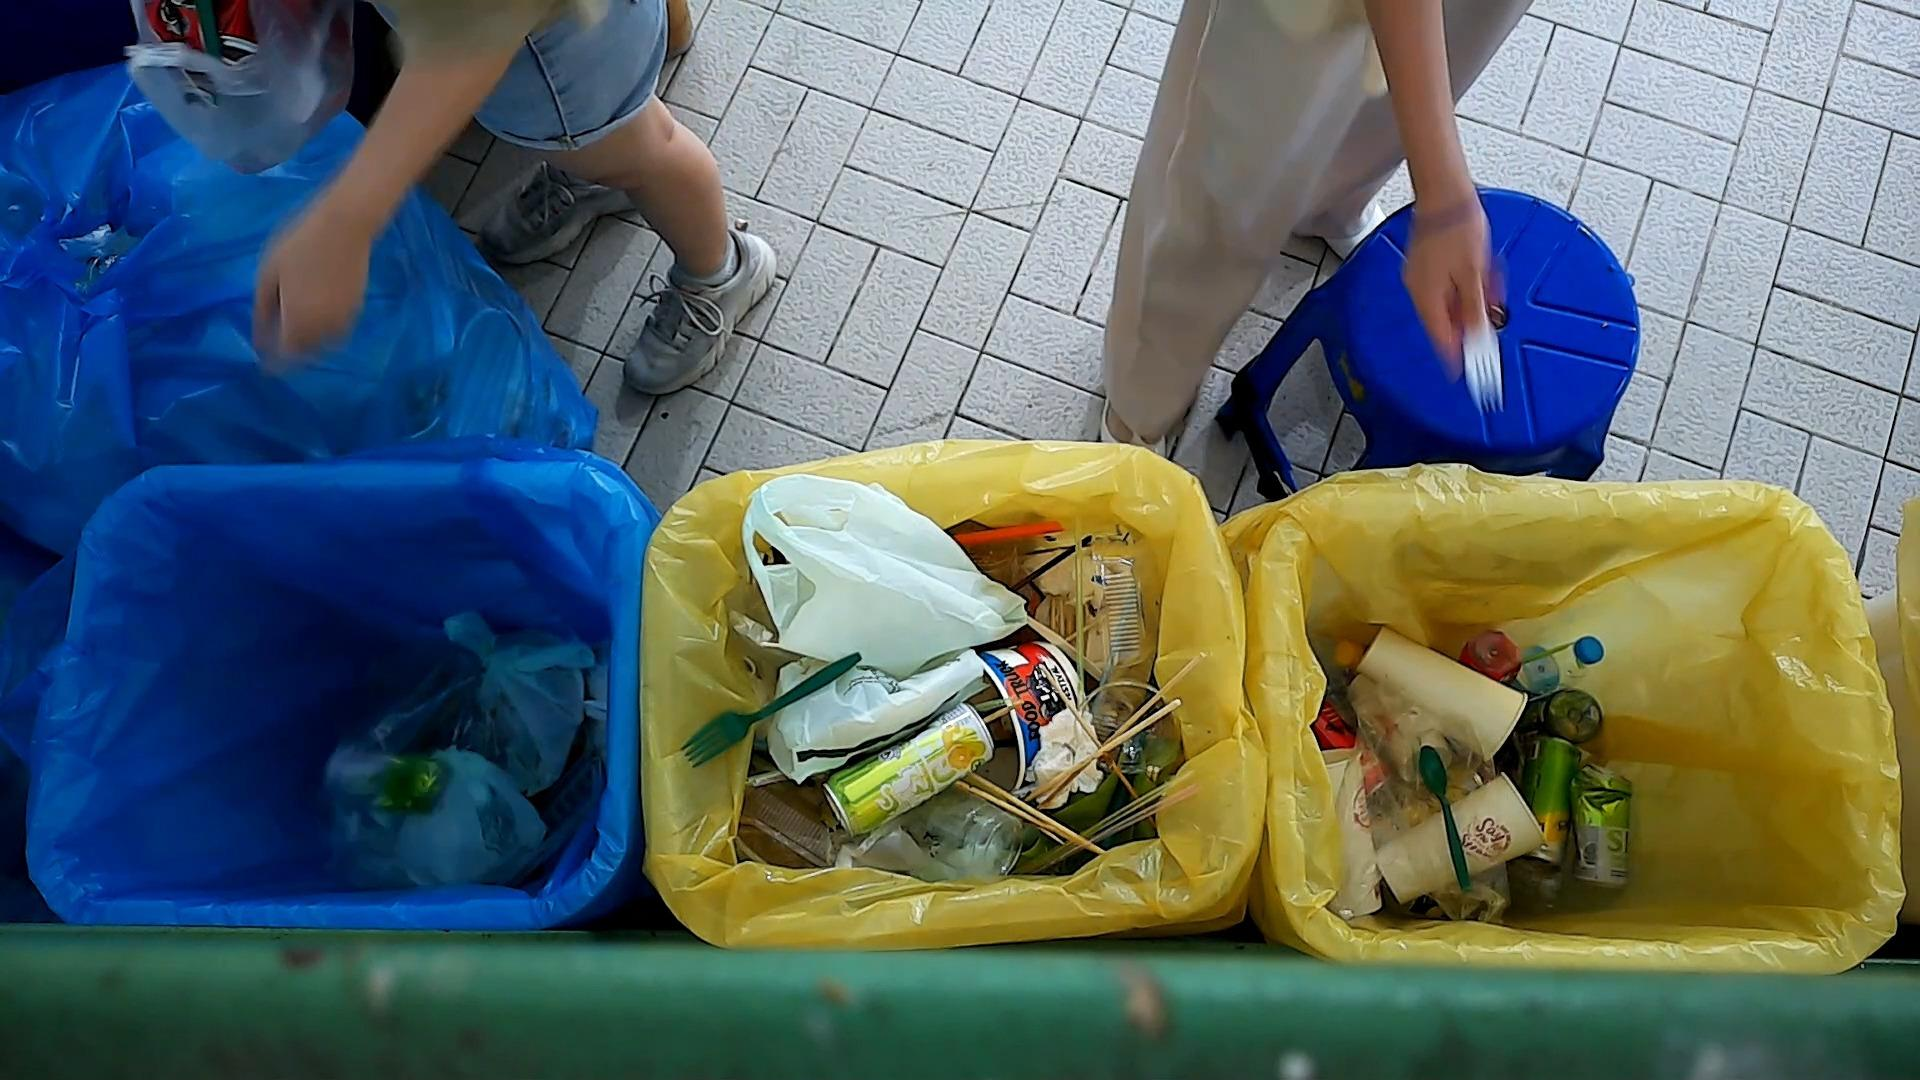can: (810, 683, 996, 845), (320, 732, 450, 832), (1567, 770, 1648, 907), (1528, 733, 1592, 874)
filled plastic bag: (65, 0, 340, 190), (760, 469, 1018, 654), (736, 622, 984, 774), (435, 592, 597, 812), (360, 757, 560, 895)
food container: (956, 628, 1089, 790), (1073, 547, 1159, 675)
plastic bottle: (1502, 625, 1605, 709), (1522, 676, 1613, 745)
plastic cup: (909, 785, 1034, 894)
plastic cutlery: (692, 641, 870, 799), (1408, 745, 1474, 898), (1462, 293, 1513, 425)
sticks: (1026, 642, 1204, 808), (943, 766, 1110, 862)
straw: (1011, 748, 1213, 885), (953, 512, 1079, 550), (1068, 542, 1091, 678)
tissue paper: (1029, 703, 1105, 808)
zero waste cup: (1353, 622, 1530, 766), (1381, 765, 1549, 906), (1315, 749, 1396, 919)
